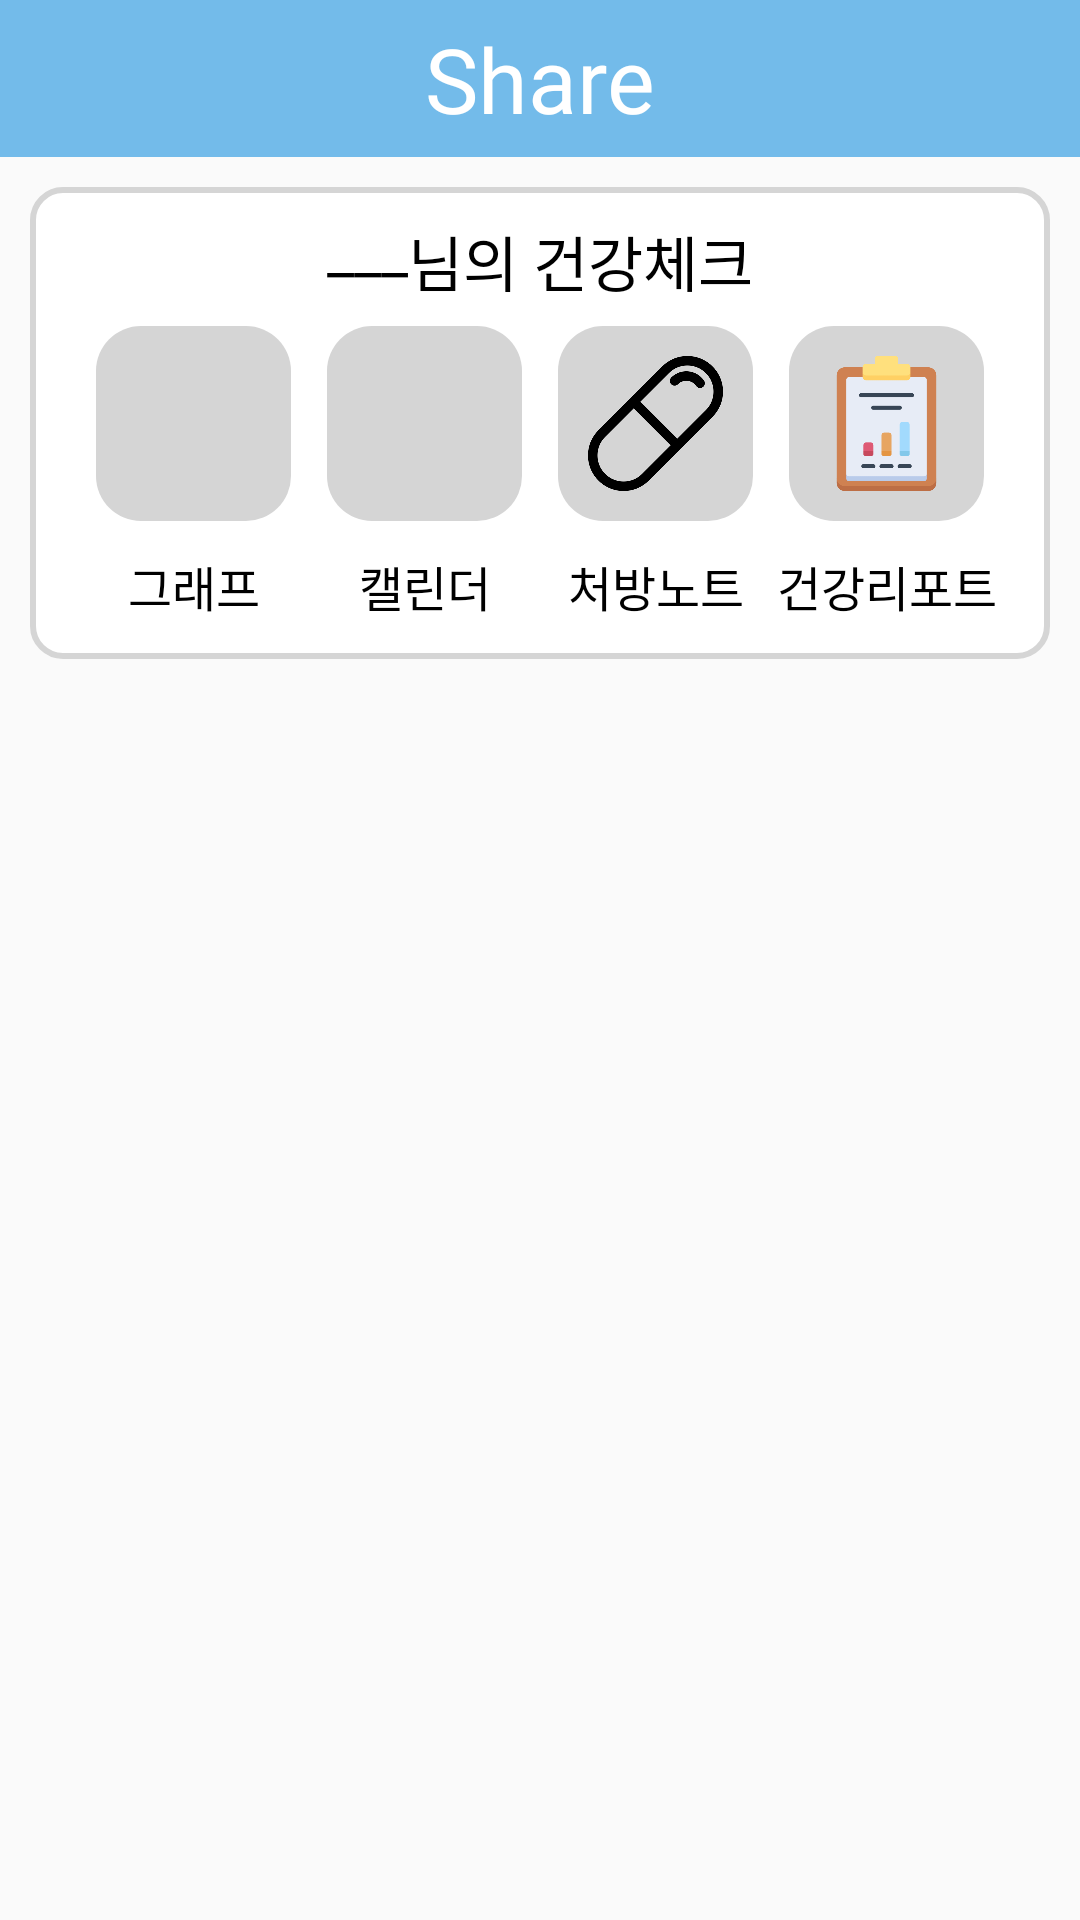

Point at icon controls on the screen. Image size 1080 x 1920, points as point (x, y).
share prescription: point (655, 423)
share report: point (886, 423)
